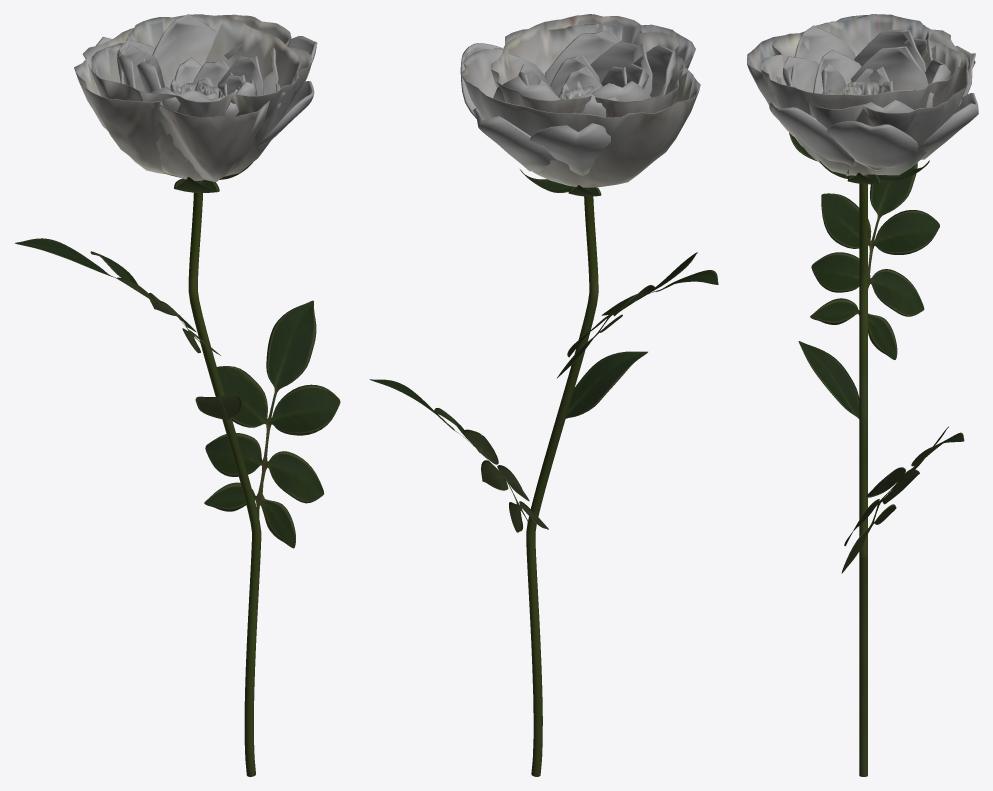
File: whiterose.gltf
3 views of the same model, side by side, from view 1: azimuth 30°, elevation 25°; view 2: azimuth 150°, elevation 25°; view 3: azimuth 270°, elevation 25° (orthographic). The views are drawn at different scales.
Visible parts, largest first — view 1: Plane.001; view 2: Plane.001; view 3: Plane.001.
Part boxes in pixels (box(x1,y1,x2,y2)): Plane.001: box(15, 14, 340, 776); Plane.001: box(369, 14, 718, 776); Plane.001: box(747, 14, 978, 776).
Bounding box in the file's own units: 2.72 × 5.91 × 1.77.
3 materials, 3 textured.
